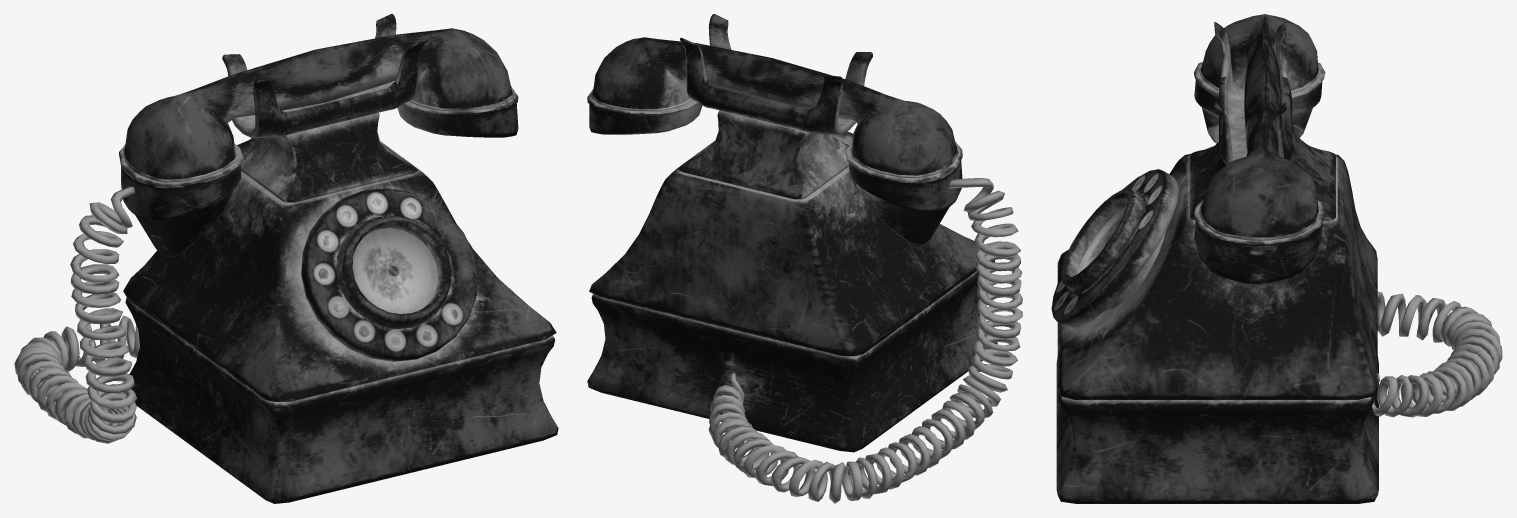
The model's file is tel.glb.
3 renders of one model, left to right at view 1: azimuth 30°, elevation 25°; view 2: azimuth 150°, elevation 25°; view 3: azimuth 270°, elevation 25°, orthographic. The views are drawn at different scales.
Parts seen in each view (by area): view 1: Object032; view 2: Object032; view 3: Object032.
Part boxes in pixels (bbox=[...]): Object032: bbox=[14, 14, 558, 503]; Object032: bbox=[587, 14, 1022, 503]; Object032: bbox=[1051, 14, 1502, 503].
Bounding box in the file's own units: 0.2945 × 0.2341 × 0.2532.
1 material, 1 textured.
